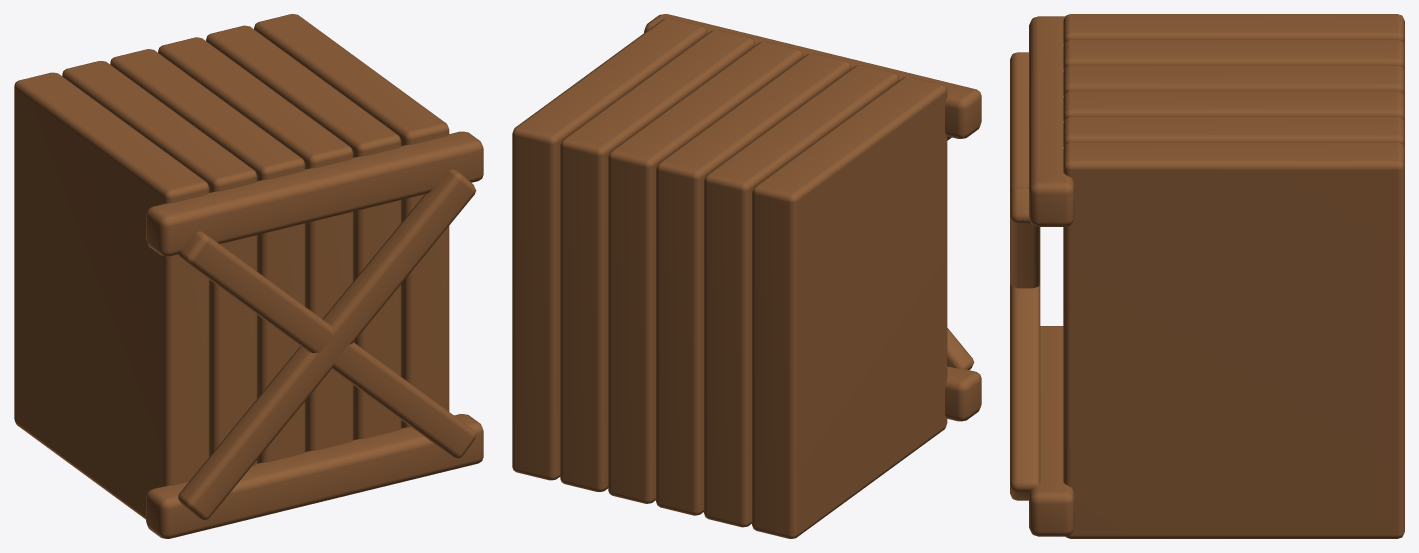
Rendered from NJD-15.glb.
3 renders of one model, left to right at view 1: azimuth 30°, elevation 25°; view 2: azimuth 150°, elevation 25°; view 3: azimuth 270°, elevation 25°, orthographic. The views are drawn at different scales.
Visible parts, largest first — view 1: cedar plank, frame crossbar.001, X brace, cedar plank.003, cedar plank.005, cedar plank.001, frame crossbar, cedar plank.002, cedar plank.004, X brace.001; view 2: cedar plank, cedar plank.005, cedar plank.004, cedar plank.002, cedar plank.001, cedar plank.003, frame crossbar.001, frame crossbar, X brace; view 3: cedar plank.005, cedar plank.001, cedar plank.004, X brace.001, cedar plank.002, cedar plank, cedar plank.003, frame crossbar.001, frame crossbar, X brace.
Boxes of the visible parts, x1,y1,x2,y2 form: cedar plank: (14,72,209,519); frame crossbar.001: (146,131,483,256); X brace: (178,169,476,520); cedar plank.003: (158,37,353,451); cedar plank.005: (254,14,449,428); cedar plank.001: (62,61,257,466); frame crossbar: (146,414,483,538); cedar plank.002: (110,49,305,463); cedar plank.004: (206,25,401,439); X brace.001: (178,231,476,458); cedar plank: (752,76,947,538); cedar plank.005: (512,18,707,480); cedar plank.004: (560,30,755,491); cedar plank.002: (656,53,851,515); cedar plank.001: (704,65,899,527); cedar plank.003: (608,41,803,503); frame crossbar.001: (644,14,981,138); frame crossbar: (945,366,981,421); X brace: (947,328,974,369); cedar plank.005: (1063,142,1404,538); cedar plank.001: (1063,39,1404,71); cedar plank.004: (1063,116,1404,148); X brace.001: (1010,52,1040,500); cedar plank.002: (1063,65,1404,97); cedar plank: (1063,14,1404,46); cedar plank.003: (1063,91,1404,123); frame crossbar.001: (1029,16,1074,226); frame crossbar: (1029,326,1074,536); X brace: (1010,187,1040,288).
Size of the model in its own units: 1.08 by 1.1 by 1.04.
